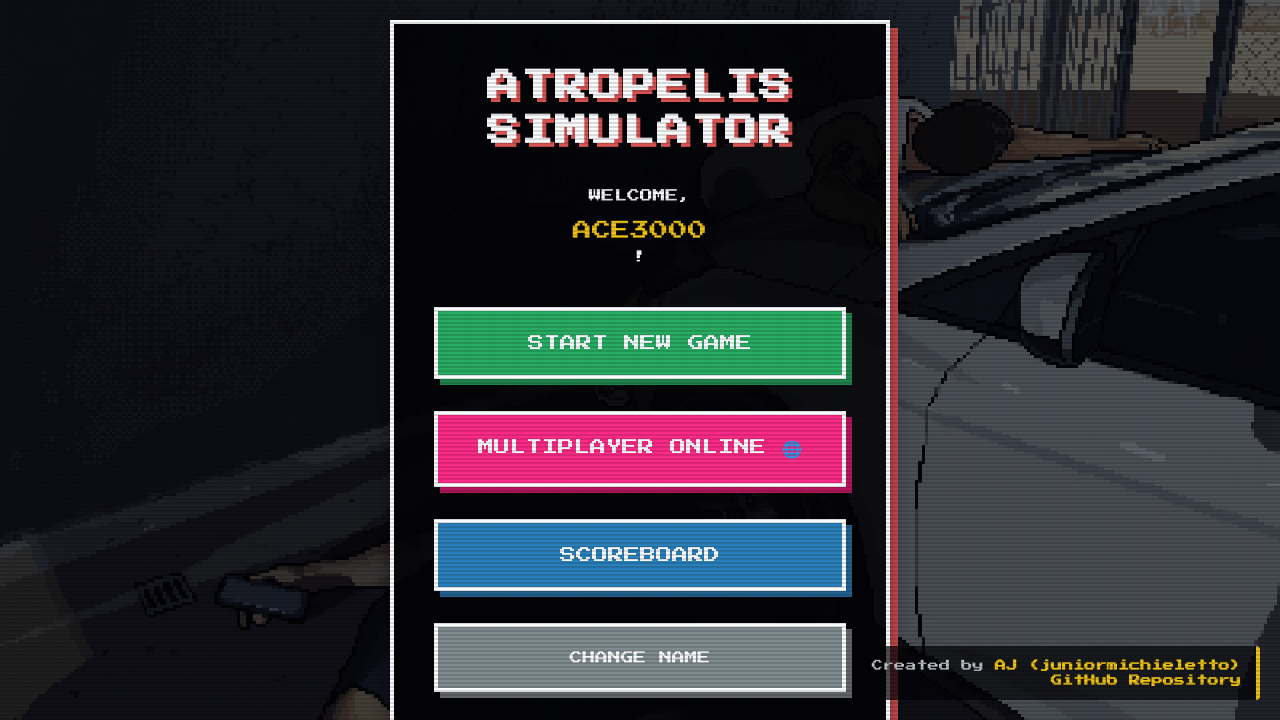
App & GameCanvas Integration › pauses the game loop, countdown timer, and music when the tab becomes hidden and resumes on return
What coordinates should you click on to do the following:
click the button "START NEW GAME"
I would click on:
 (640, 343)
Its box is [434,307,846,379].
Wait 15000 ms
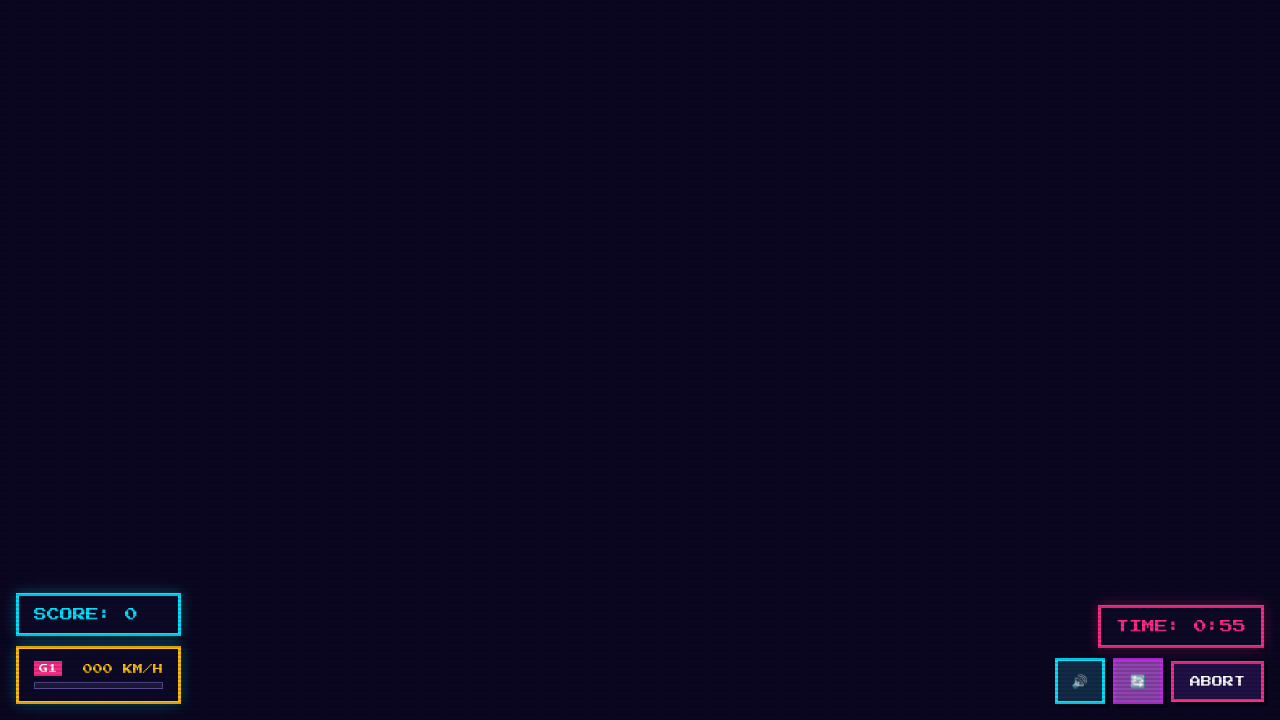
Now the text "TIME: 0:55" is shown, box [1098,605,1264,648]
